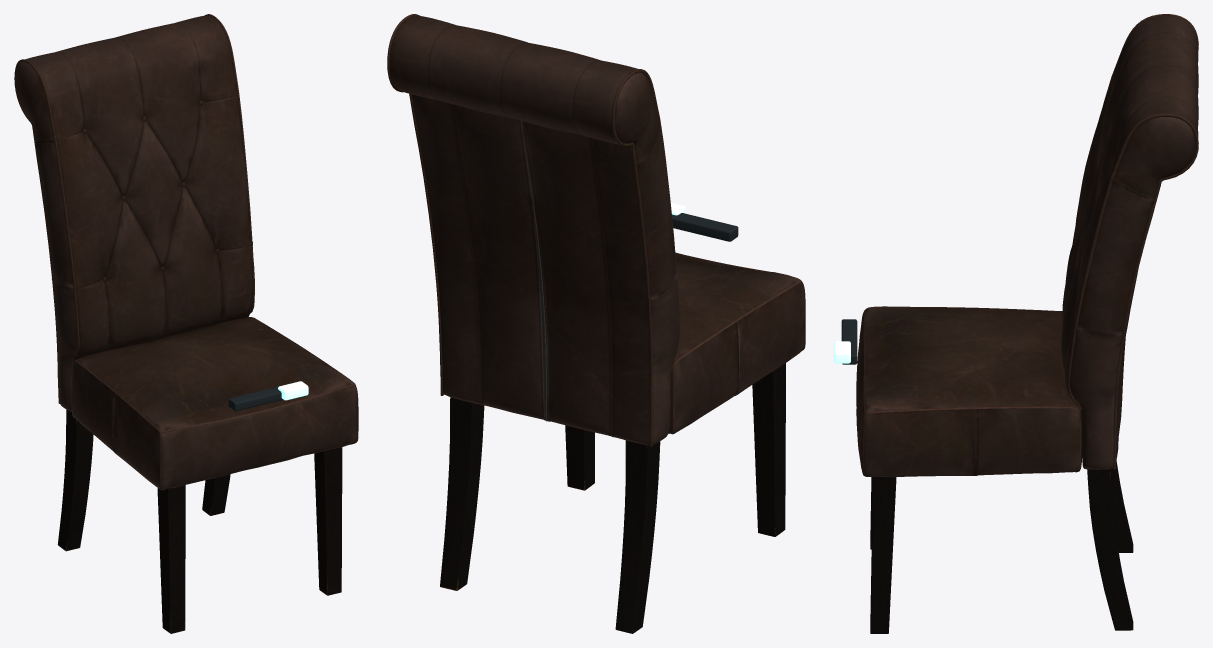
The model's file is hp_l2_cc0_dining_chair_polyhaven_v1.glb.
The picture shows the model from 3 angles, left to right: view 1: azimuth 30°, elevation 25°; view 2: azimuth 150°, elevation 25°; view 3: azimuth 270°, elevation 25°; orthographic projection. The views are drawn at different scales.
Visible parts, largest first — view 1: cc0_source_dining_chair_02, hp_underseat_service_tag; view 2: cc0_source_dining_chair_02, hp_underseat_service_tag; view 3: cc0_source_dining_chair_02, hp_underseat_service_tag.
Boxes of the visible parts, bbox=[...] form: cc0_source_dining_chair_02: bbox=[14, 14, 358, 633]; hp_underseat_service_tag: bbox=[228, 386, 283, 411]; cc0_source_dining_chair_02: bbox=[387, 14, 805, 633]; hp_underseat_service_tag: bbox=[672, 213, 738, 241]; cc0_source_dining_chair_02: bbox=[856, 14, 1198, 633]; hp_underseat_service_tag: bbox=[841, 319, 857, 364].
Size of the model in its own units: 0.4276 by 0.96 by 0.6052.
3 materials, 1 textured.
